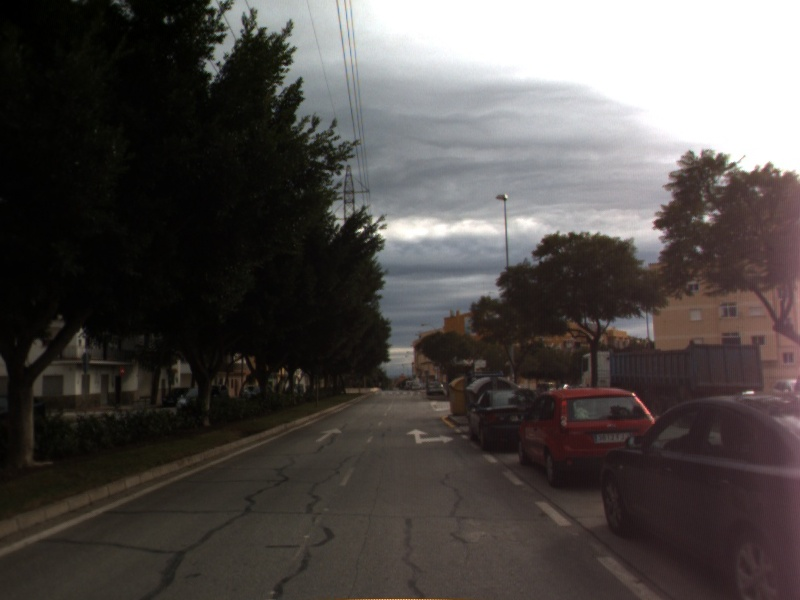STRAIGHT: (313, 425, 344, 444)
STRAIGHT_RIGHT: (404, 426, 456, 446)
